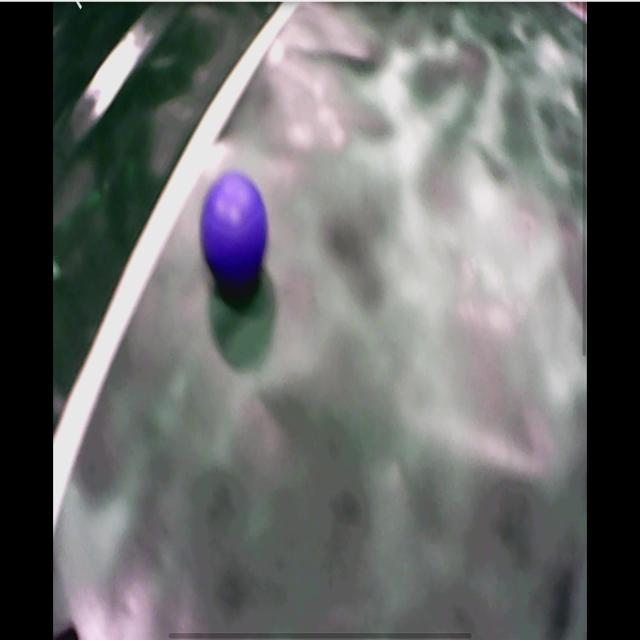ball: (201, 174, 267, 280)
